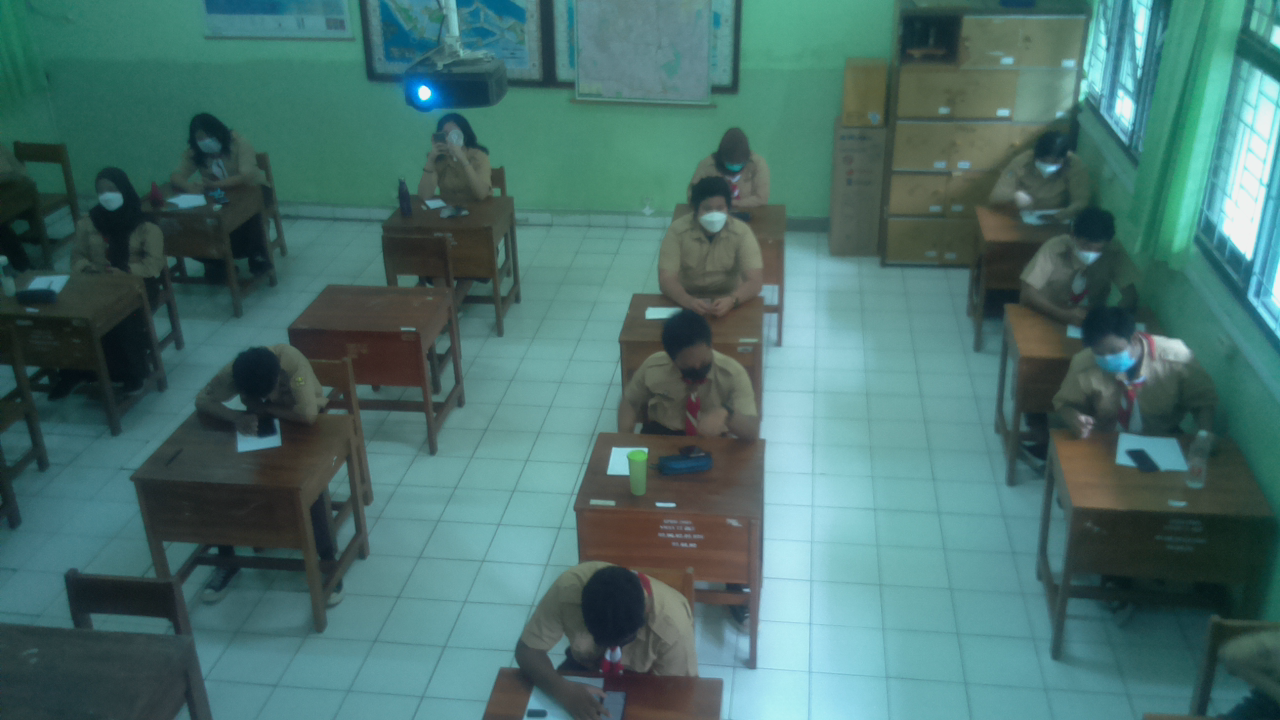Student: (549, 555, 697, 673), (629, 313, 747, 426), (1073, 313, 1192, 423), (671, 179, 766, 294), (1027, 211, 1126, 313), (207, 343, 319, 422), (73, 171, 160, 269), (999, 127, 1087, 217), (429, 115, 492, 197), (693, 131, 763, 200), (181, 117, 255, 181)
